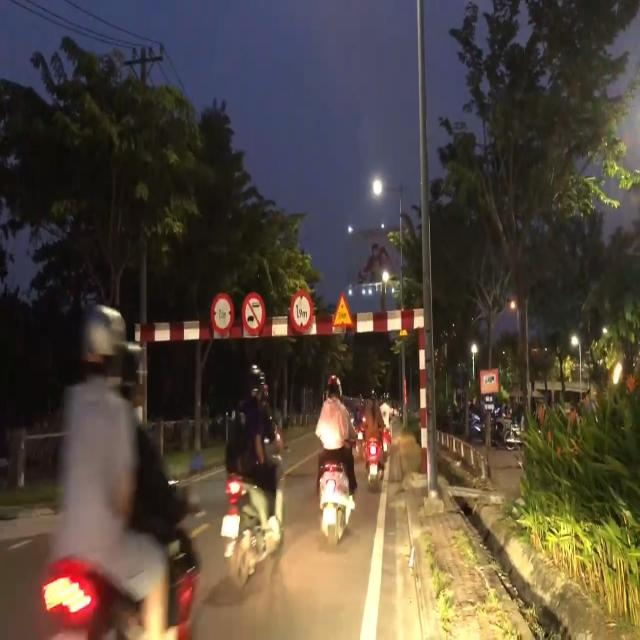Bien bao cam xe oto khach va xe oto tai: (240, 287, 268, 338)
Bien bao chieu cao tinh khong thuc te: (329, 290, 355, 332)
Bien bao han che chieu cao: (288, 286, 314, 332)
